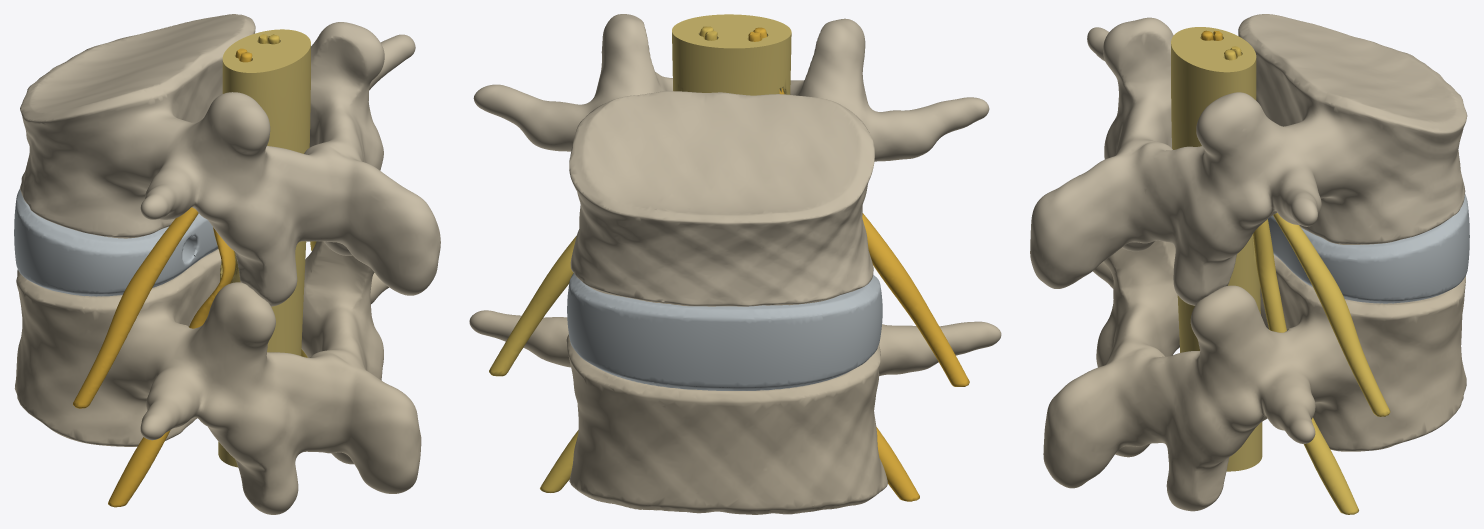
The model's file is spine_compression_fracture.glb.
The picture shows the model from 3 angles, left to right: view 1: azimuth 30°, elevation 25°; view 2: azimuth 150°, elevation 25°; view 3: azimuth 270°, elevation 25°; orthographic projection. The views are drawn at different scales.
Visible parts, largest first — view 1: l4_vertebra, l5_vertebra, annulus_fibrosus, thecal_sac, l4_nerve_root_left, l5_nerve_root_left; view 2: l4_vertebra, l5_vertebra, annulus_fibrosus, thecal_sac, nerve_roots, l4_nerve_root_left, l5_nerve_root_left; view 3: l4_vertebra, l5_vertebra, annulus_fibrosus, thecal_sac, nerve_roots.
Part boxes in pixels (<box>): l4_vertebra: <box>20,14,440,306</box>; l5_vertebra: <box>14,241,421,514</box>; annulus_fibrosus: <box>14,189,218,296</box>; thecal_sac: <box>218,29,310,467</box>; l4_nerve_root_left: <box>73,52,252,408</box>; l5_nerve_root_left: <box>108,48,247,507</box>; l4_vertebra: <box>473,14,989,306</box>; l5_vertebra: <box>469,310,1001,514</box>; annulus_fibrosus: <box>567,273,882,390</box>; thecal_sac: <box>672,14,791,95</box>; nerve_roots: <box>489,26,717,492</box>; l4_nerve_root_left: <box>753,27,969,386</box>; l5_nerve_root_left: <box>748,31,919,501</box>; l4_vertebra: <box>1030,14,1467,305</box>; l5_vertebra: <box>1043,240,1466,511</box>; annulus_fibrosus: <box>1268,194,1469,303</box>; thecal_sac: <box>1171,27,1262,471</box>; nerve_roots: <box>1224,46,1390,514</box>.
Size of the model in its own units: 7.95 by 7.92 by 7.36.
